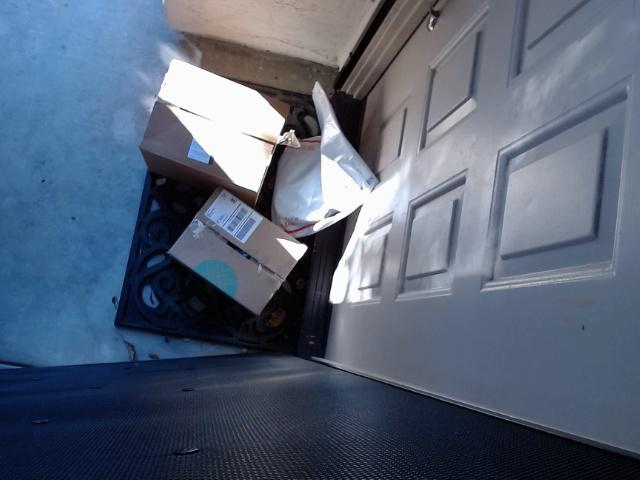box: (139, 58, 291, 208), (167, 186, 307, 315)
plastic_bag: (272, 82, 380, 237)
